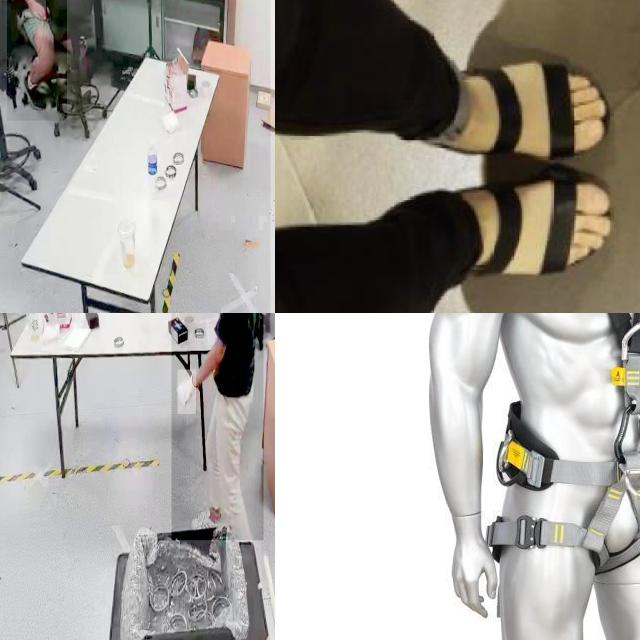Harness: (488, 313, 640, 574)
Sandals: (404, 57, 622, 172), (436, 178, 622, 300)
hand_glove: (178, 369, 196, 415)
hand_noglove: (28, 0, 46, 21)
person: (171, 313, 264, 541), (6, 0, 67, 121)
shoes: (19, 68, 47, 116)
